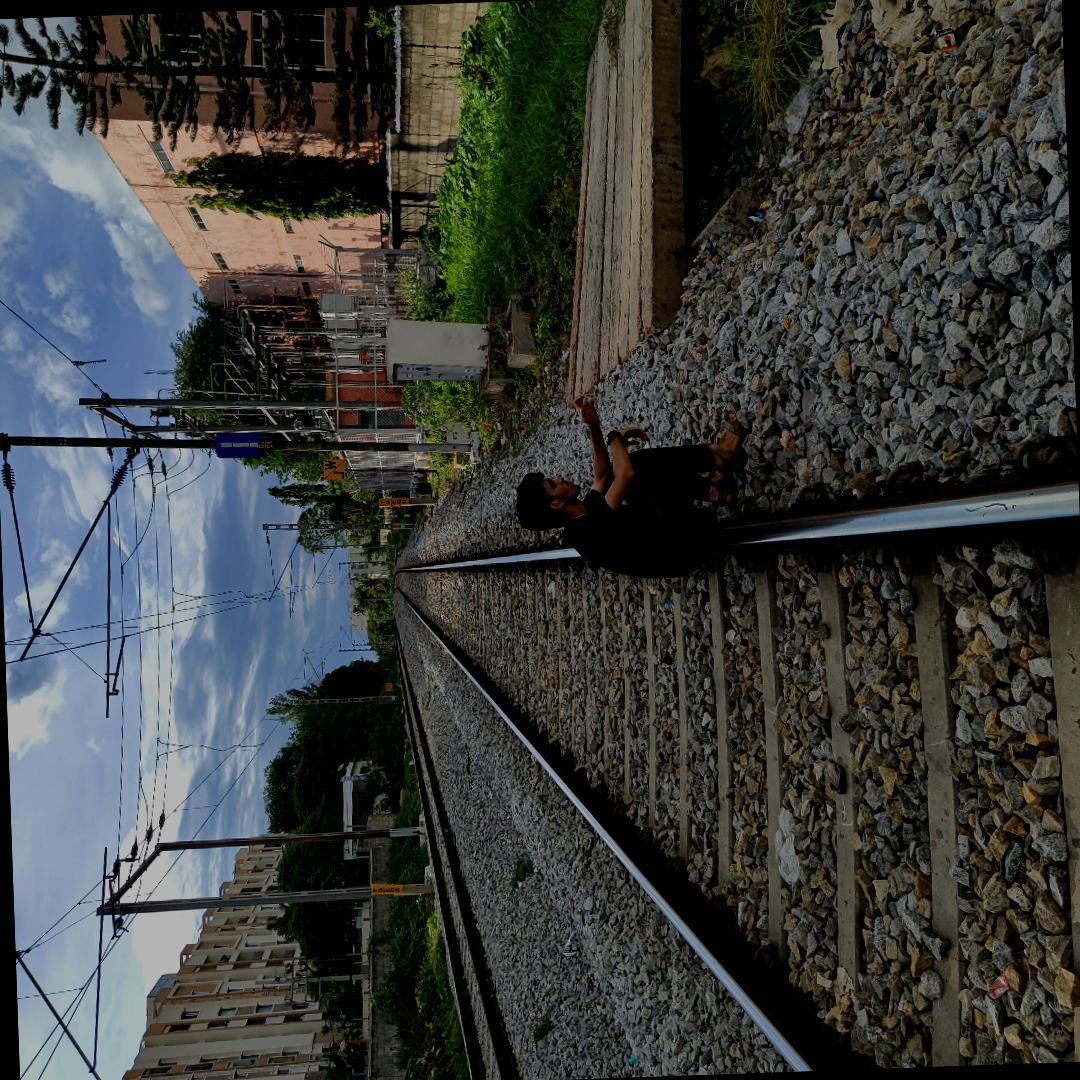sitting: (514, 379, 759, 595)
